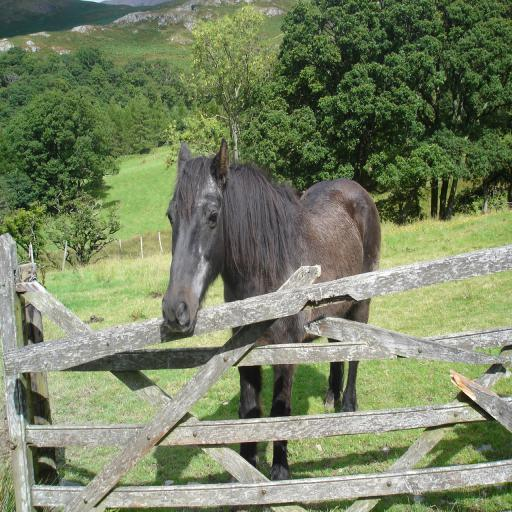Horse: (159, 134, 381, 482)
